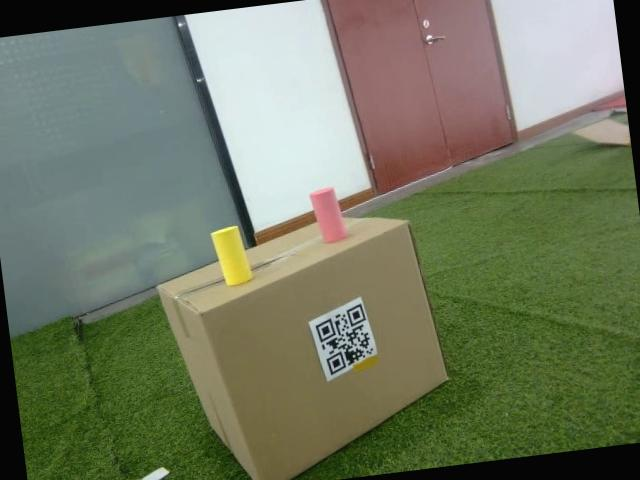red_cylinder: (307, 185, 349, 246)
yellow_cylinder: (209, 223, 256, 291)
